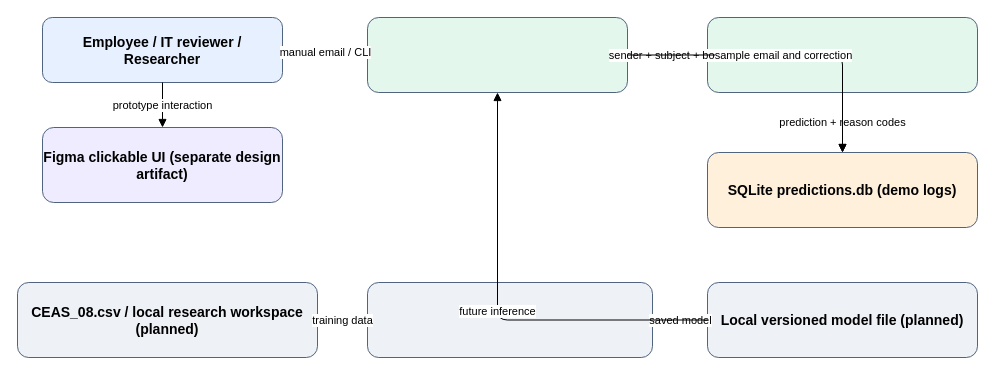
This 995x375 diagram has some shape labels left out. The centre of each missing label's shape, as x and y in pixels:
"Python CLI testbed (implemented)" goes at (497,54).
"Rule-based classifier (implemented)" goes at (842,54).
"TF-IDF + logistic regression model (planned)" goes at (509,320).
